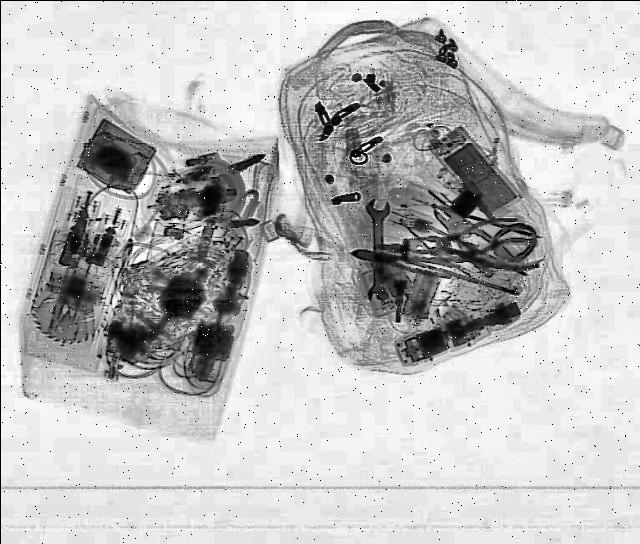Pliers: (414, 218, 542, 270), (348, 244, 462, 284), (452, 241, 540, 273)
Wrench: (370, 200, 390, 302)
